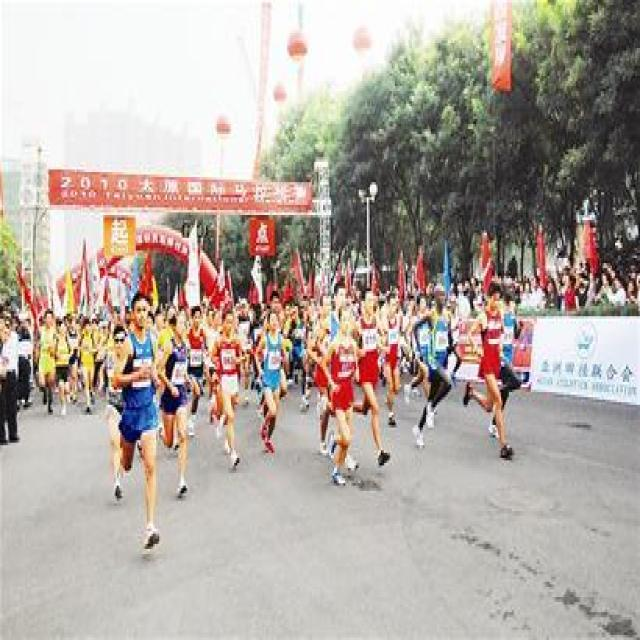non-fight: (102, 288, 176, 554), (322, 302, 358, 490), (212, 308, 248, 475)
